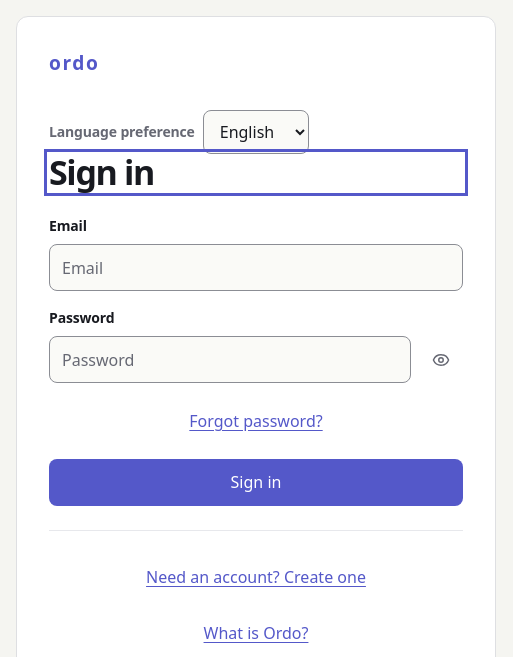
existing authentication flows › keeps registration requirements visible and associated with the password field
The width and height of the screenshot is (513, 657).
Click the button "Need an account? Create one": (256, 577) [133,555,379,599]
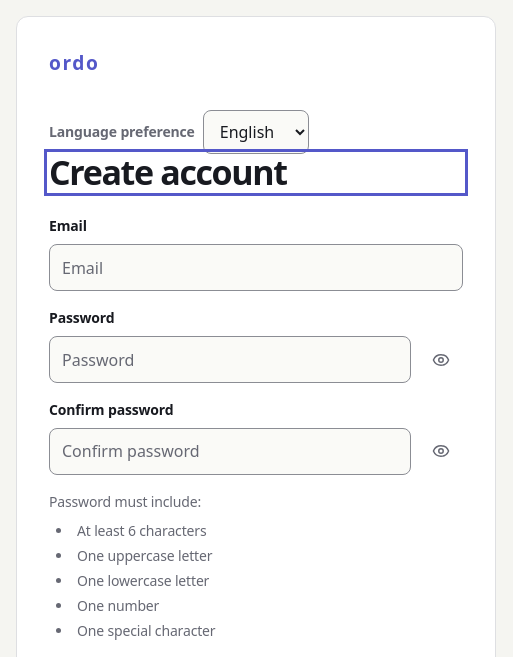
Expected: the text "Password must include:" is shown, [49,492,201,511]
Expected: the list item "At least 6 characters" is shown, [77,521,206,540]
